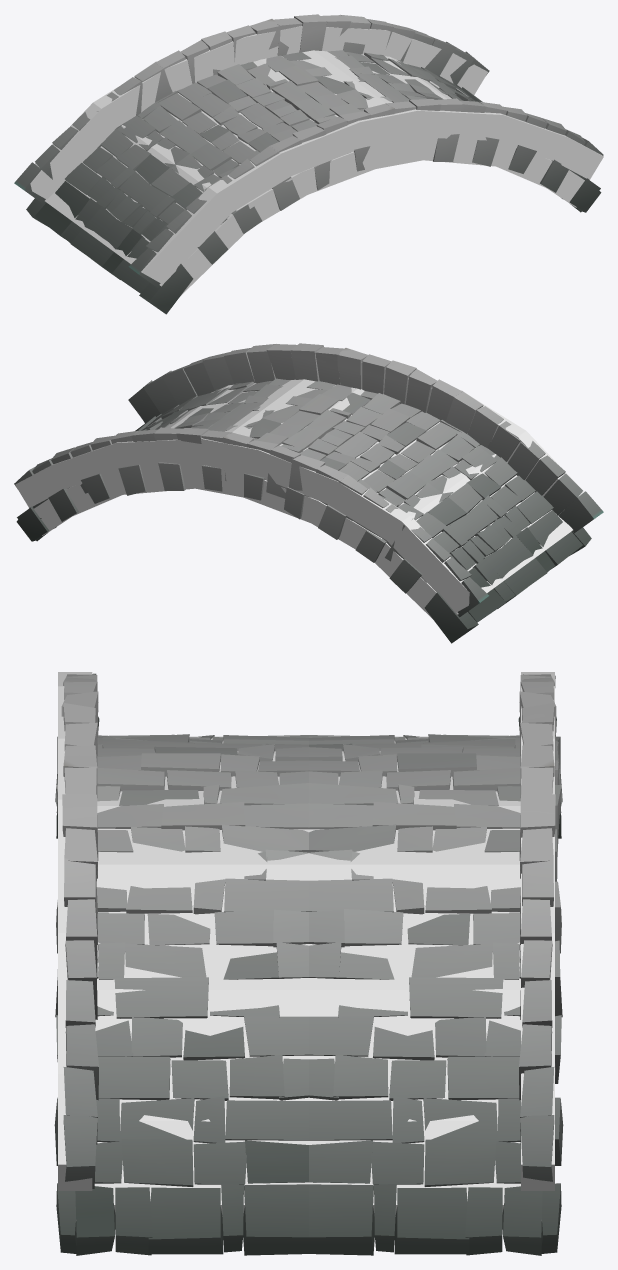
Rendered from colider_b.fbx.
The picture shows the model from 3 angles, top to bottom: view 1: azimuth 30°, elevation 25°; view 2: azimuth 150°, elevation 25°; view 3: azimuth 270°, elevation 25°; orthographic projection. The views are drawn at different scales.
Parts seen in each view (by area): view 1: Wall.003, colider_bridge; view 2: Wall.003, colider_bridge; view 3: Wall.003, colider_bridge.
Part boxes in pixels (<box>): Wall.003: <box>14,14,603,314</box>; colider_bridge: <box>30,26,603,295</box>; Wall.003: <box>14,343,603,643</box>; colider_bridge: <box>15,363,584,618</box>; Wall.003: <box>54,673,563,1255</box>; colider_bridge: <box>58,672,554,1220</box>.
Size of the model in its own units: 2342 by 731 by 1103.
